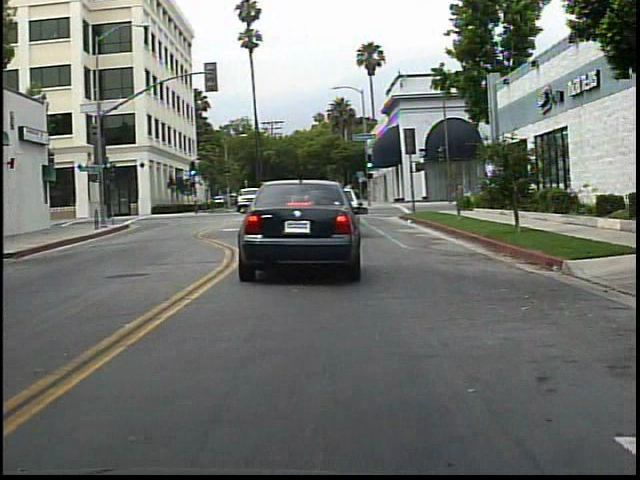person: (340, 177, 366, 220)
